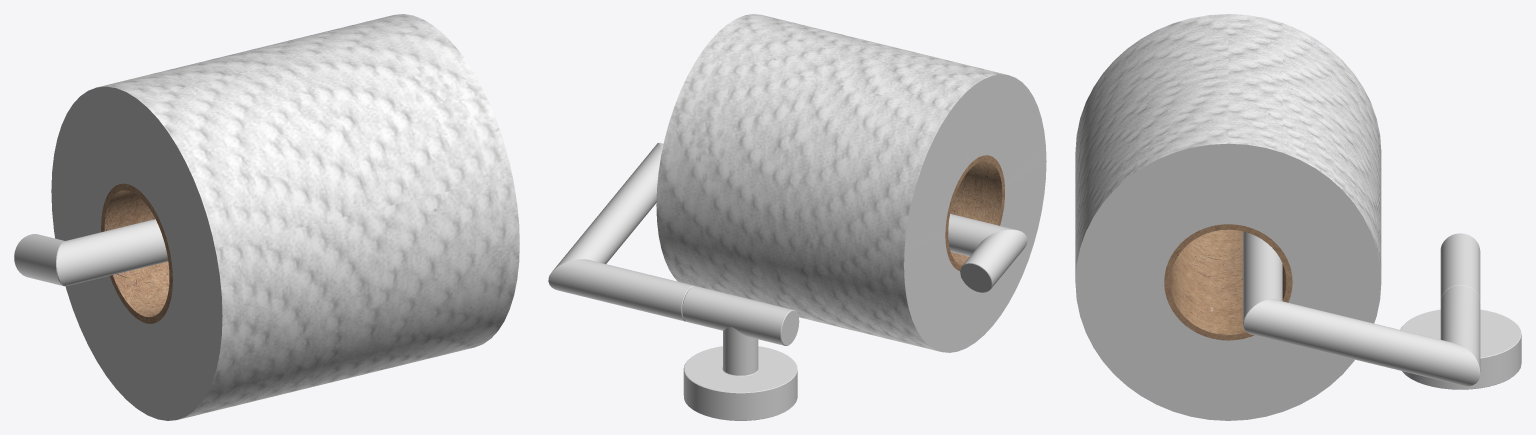
The model's file is toilet_tissue_2.fbx.
The picture shows the model from 3 angles, left to right: view 1: azimuth 30°, elevation 25°; view 2: azimuth 150°, elevation 25°; view 3: azimuth 270°, elevation 25°; orthographic projection. The views are drawn at different scales.
Visible parts, largest first — view 1: toilet_paper.001, Toilet paper holder; view 2: toilet_paper.001, Toilet paper holder; view 3: toilet_paper.001, Toilet paper holder.
Boxes of the visible parts, x1,y1,x2,y2 form: toilet_paper.001: (51,14,519,420); Toilet paper holder: (14,219,168,286); toilet_paper.001: (656,14,1046,352); Toilet paper holder: (548,142,1027,420); toilet_paper.001: (1075,14,1381,420); Toilet paper holder: (1243,231,1521,389).
Size of the model in its own units: 14.06 by 9.61 by 13.69.
Materials: 4 (2 with a texture image).
